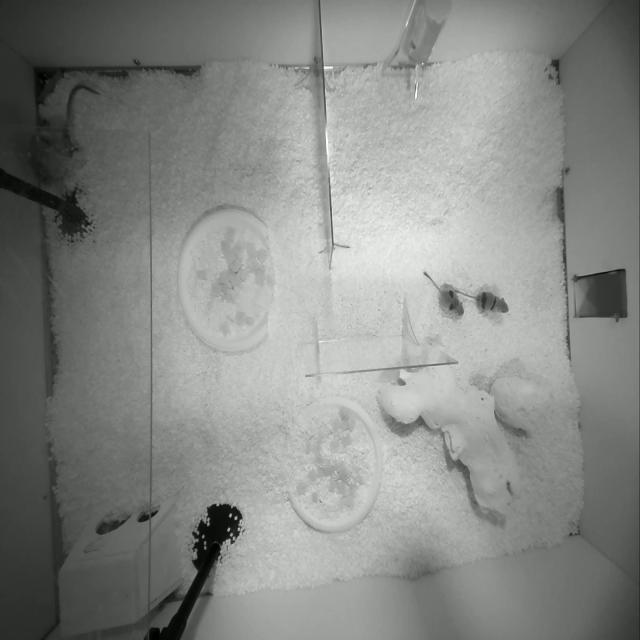adult_back: (30, 84, 100, 187)
pup_h_stripe: (456, 290, 509, 313)
pup_spotted: (424, 271, 464, 315)
